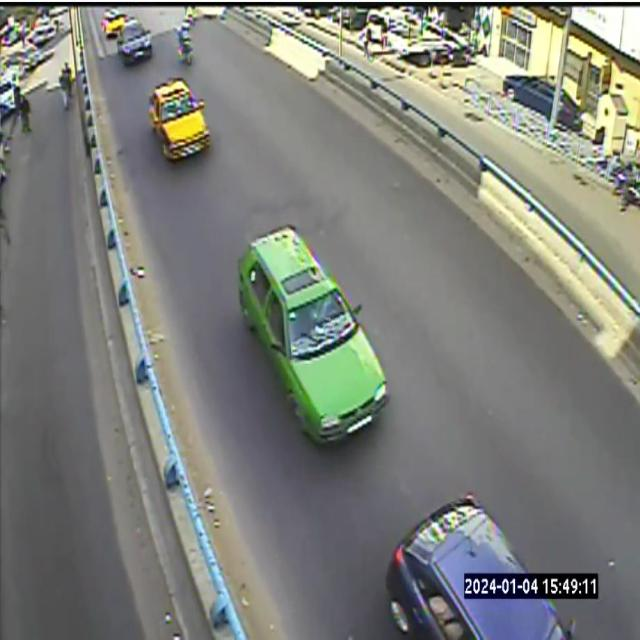car: (237, 226, 388, 443), (385, 494, 574, 639), (149, 78, 211, 158), (118, 18, 152, 65), (101, 9, 125, 38)
